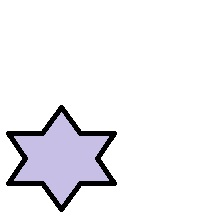star: (6, 105, 118, 213)
